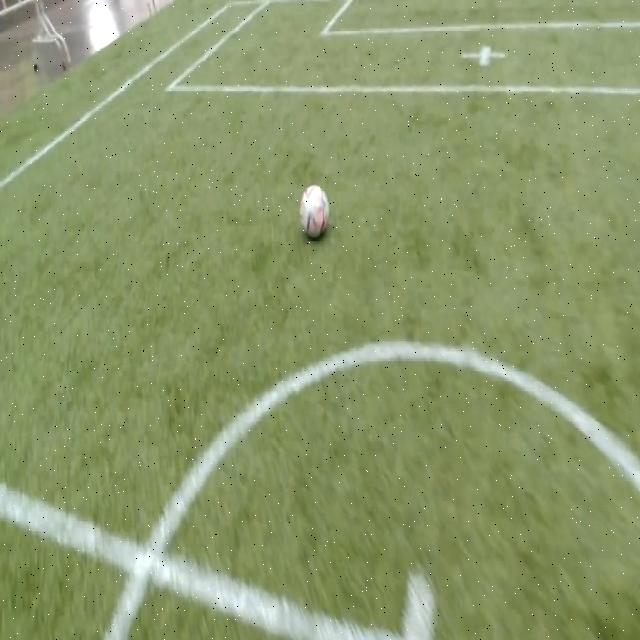ball: (300, 185, 329, 238)
